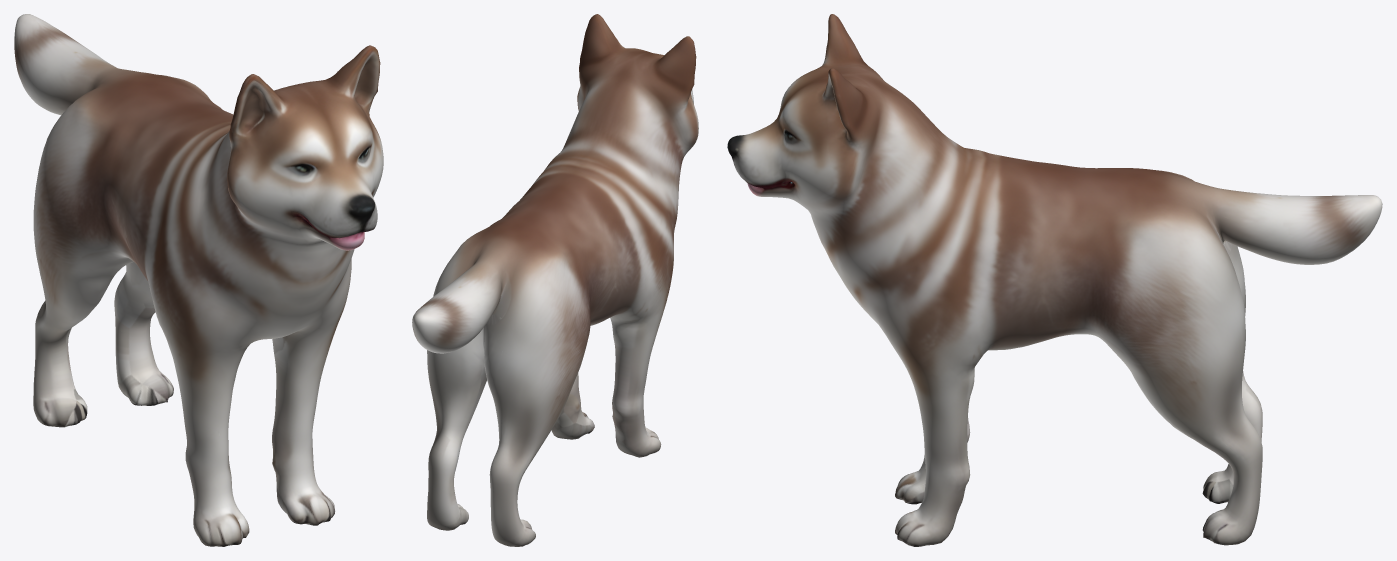
Rendered from dog.glb.
3 views of the same model, side by side, from view 1: azimuth 30°, elevation 25°; view 2: azimuth 150°, elevation 25°; view 3: azimuth 270°, elevation 25° (orthographic). The views are drawn at different scales.
Visible parts, largest first — view 1: model; view 2: model; view 3: model.
Boxes of the visible parts, x1=… form: model: x1=14, y1=14, x2=383, y2=546; model: x1=412, y1=14, x2=698, y2=546; model: x1=727, y1=14, x2=1382, y2=546.
Size of the model in its own units: 0.566 by 1.53 by 1.9.
Materials: 1 (1 with a texture image).
